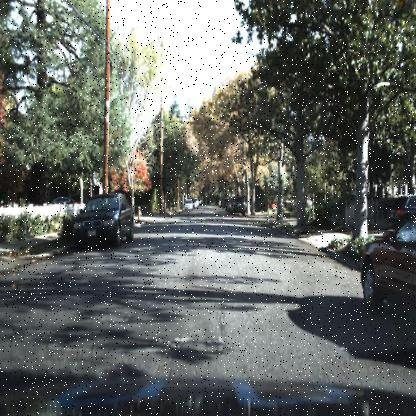car: (360, 208, 416, 336), (73, 190, 136, 250)
